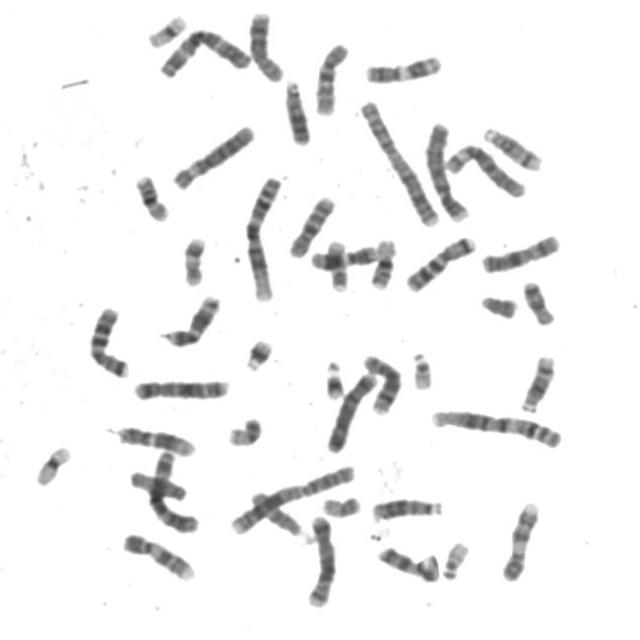A1: (426, 401, 567, 451), (240, 169, 286, 304)
A2: (355, 92, 444, 229), (224, 458, 360, 536)
A3: (154, 22, 256, 79), (144, 444, 202, 535)
B4: (421, 115, 474, 223), (322, 366, 381, 454)
B5: (302, 508, 340, 610), (129, 372, 234, 402)
C10: (284, 188, 340, 259), (309, 35, 353, 117)
C11: (158, 288, 224, 349), (361, 49, 446, 85)
C12: (113, 419, 199, 459), (306, 244, 386, 270)
C6: (168, 118, 258, 191), (442, 137, 529, 199)
C7: (402, 229, 479, 293), (84, 300, 134, 380)
C8: (244, 4, 288, 83), (358, 347, 405, 416)
C9: (118, 526, 199, 583), (498, 494, 543, 582)
D13: (368, 490, 447, 523), (280, 73, 315, 147)
D14: (478, 120, 546, 172), (516, 348, 560, 413)
D15: (246, 483, 311, 540), (125, 464, 192, 503)
E16: (131, 168, 174, 223), (366, 232, 401, 291)
E17: (178, 230, 210, 288), (322, 234, 353, 293)
E18: (518, 273, 560, 327), (375, 543, 431, 581)
F19: (31, 439, 75, 487), (142, 8, 190, 49)
F20: (224, 410, 266, 448), (318, 489, 365, 519)
G21: (240, 332, 277, 372), (320, 354, 349, 401)
G22: (438, 535, 473, 582), (406, 345, 437, 391)
X: (476, 227, 564, 274)
Y: (477, 288, 521, 320)
